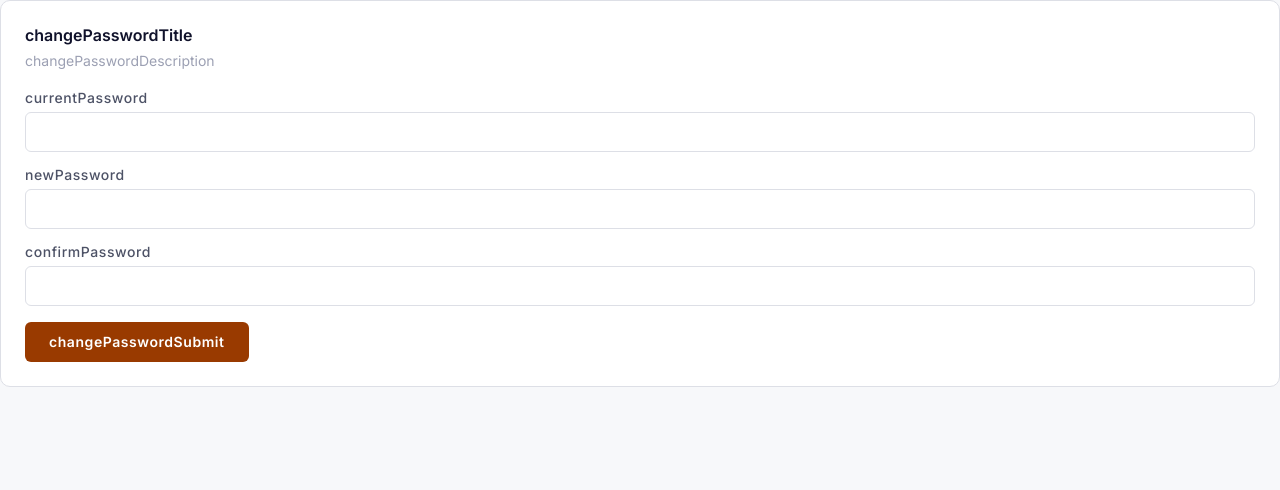
Scenario: ChangePasswordForm › shows password strength checklist as user types new password
The width and height of the screenshot is (1280, 490).
Step 1. Type "SecurePass1!" into the password field labelled "newPassword" → [640, 209], box x1=25 y1=189 x2=1255 y2=229
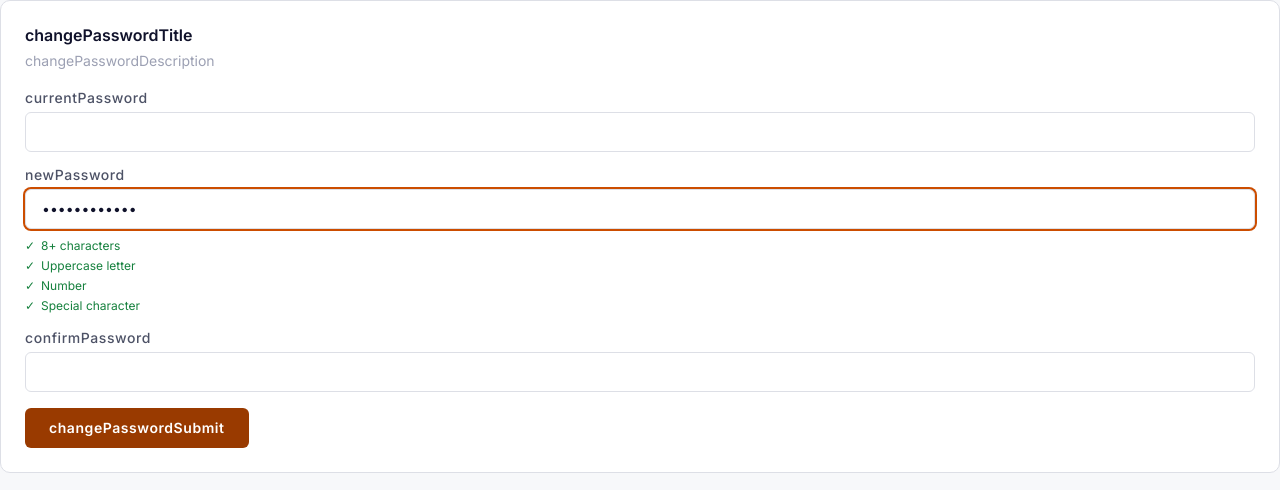
Check: the list item "8+ characters" is shown, box x1=41 y1=238 x2=120 y2=253
Check: the list item "Uppercase letter" is shown, box x1=41 y1=258 x2=136 y2=273
